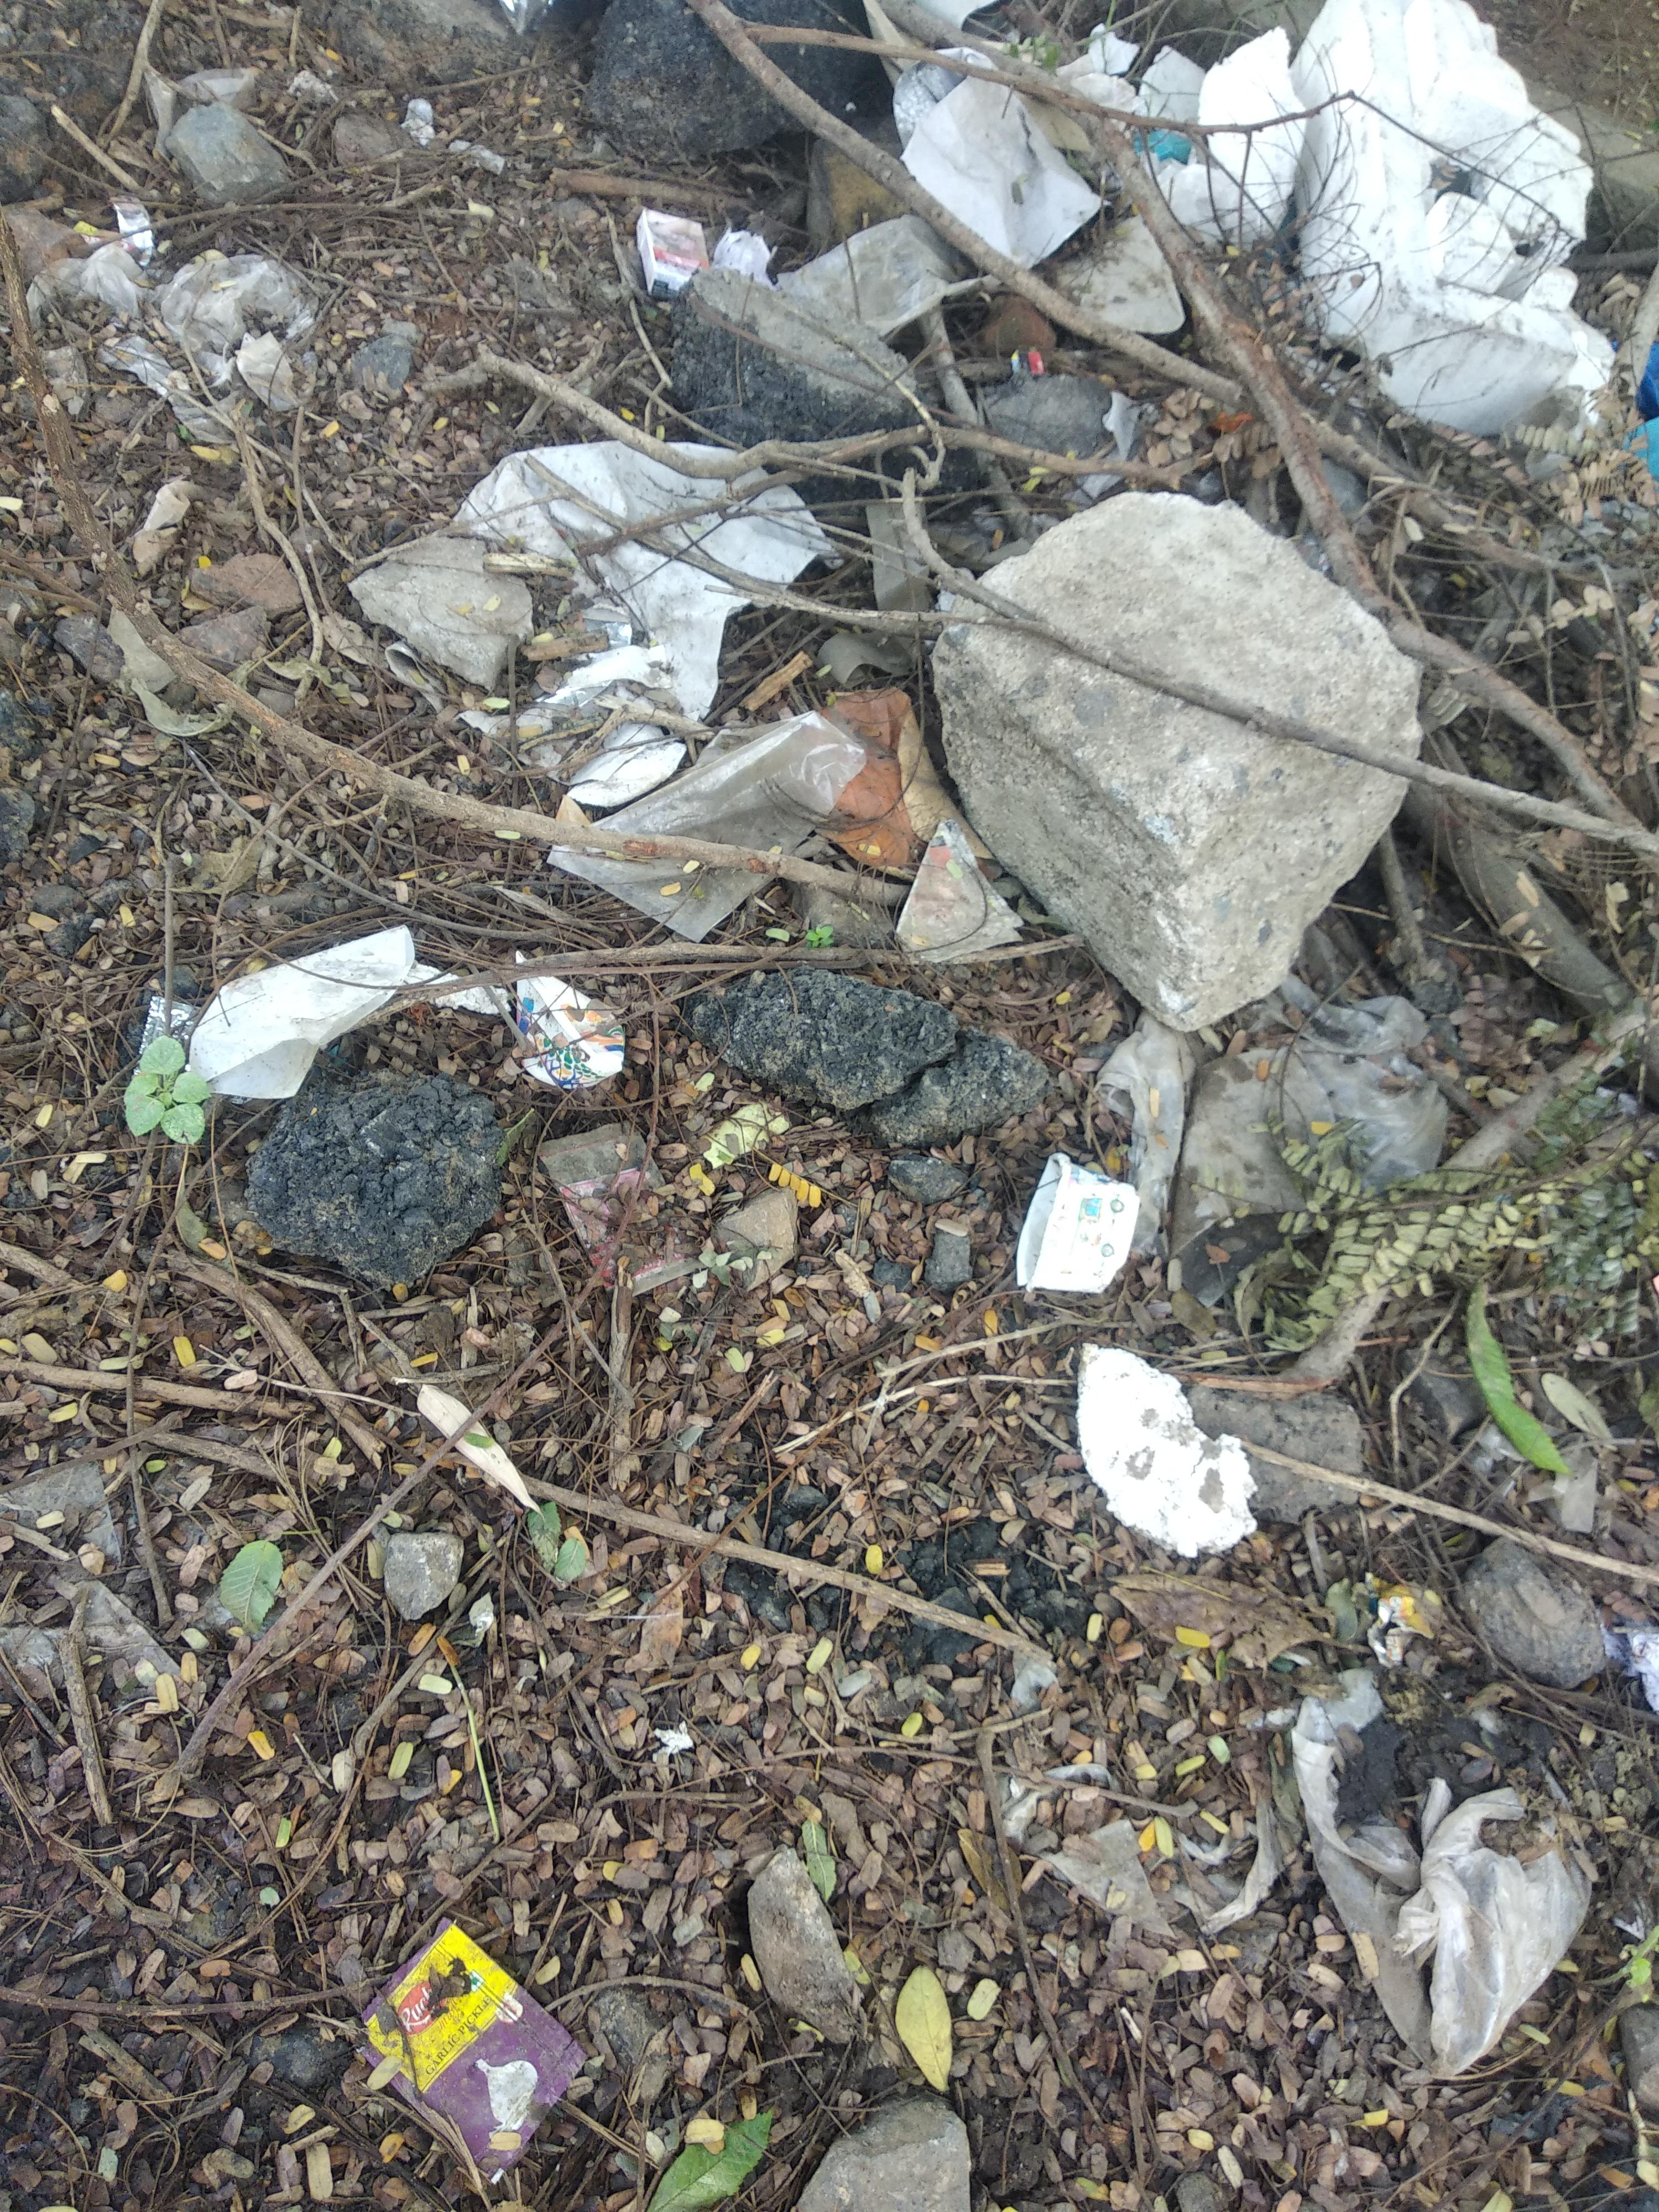Domestic Trash Garbage: (568, 0, 1659, 453)
